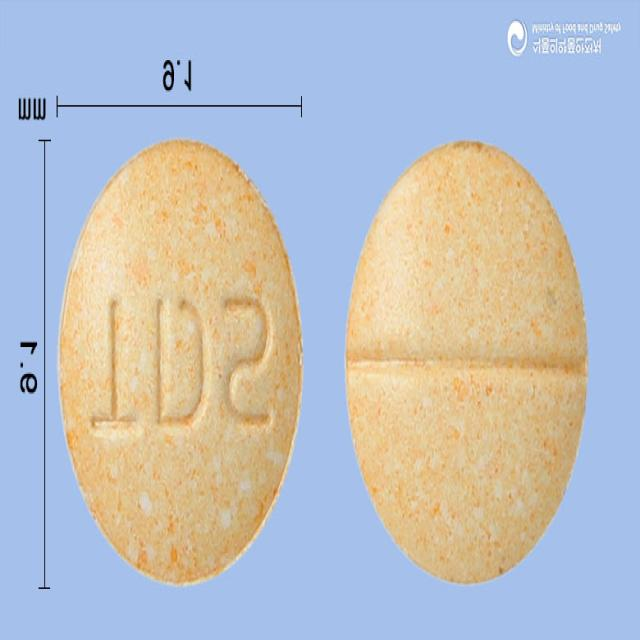Ciplus: (59, 140, 303, 586), (346, 144, 588, 586)
